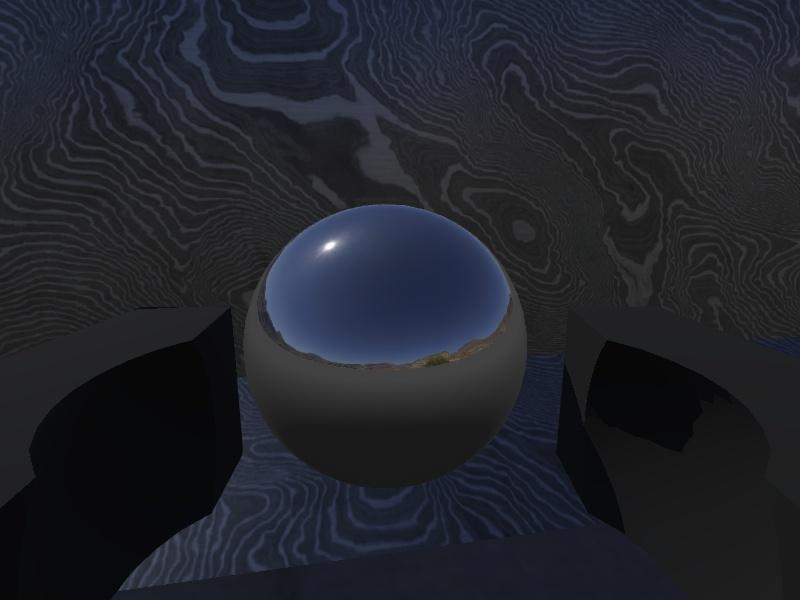steel ball: (241, 202, 529, 490)
